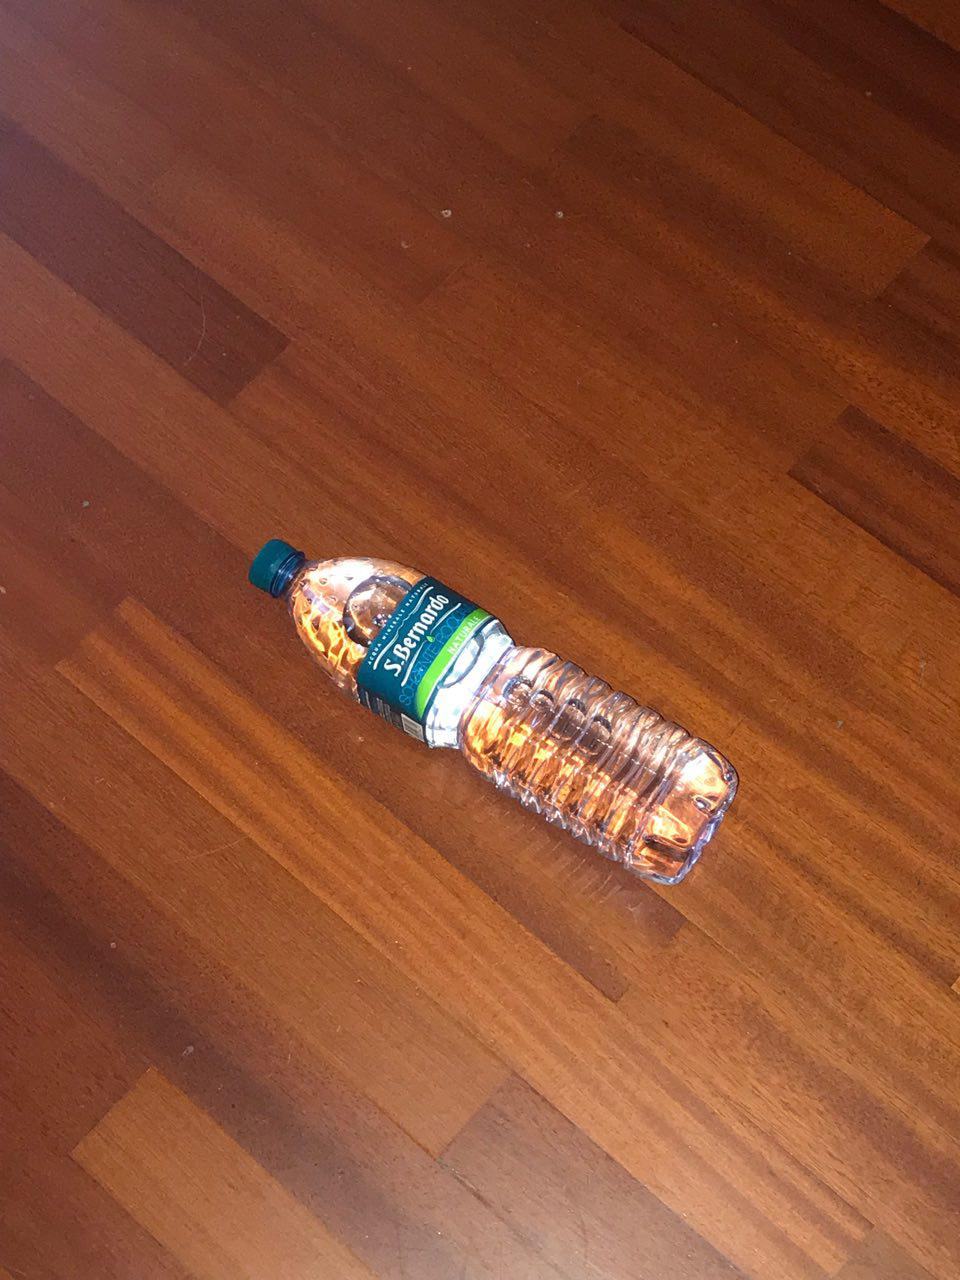san_bernardo: (246, 538, 740, 887)
